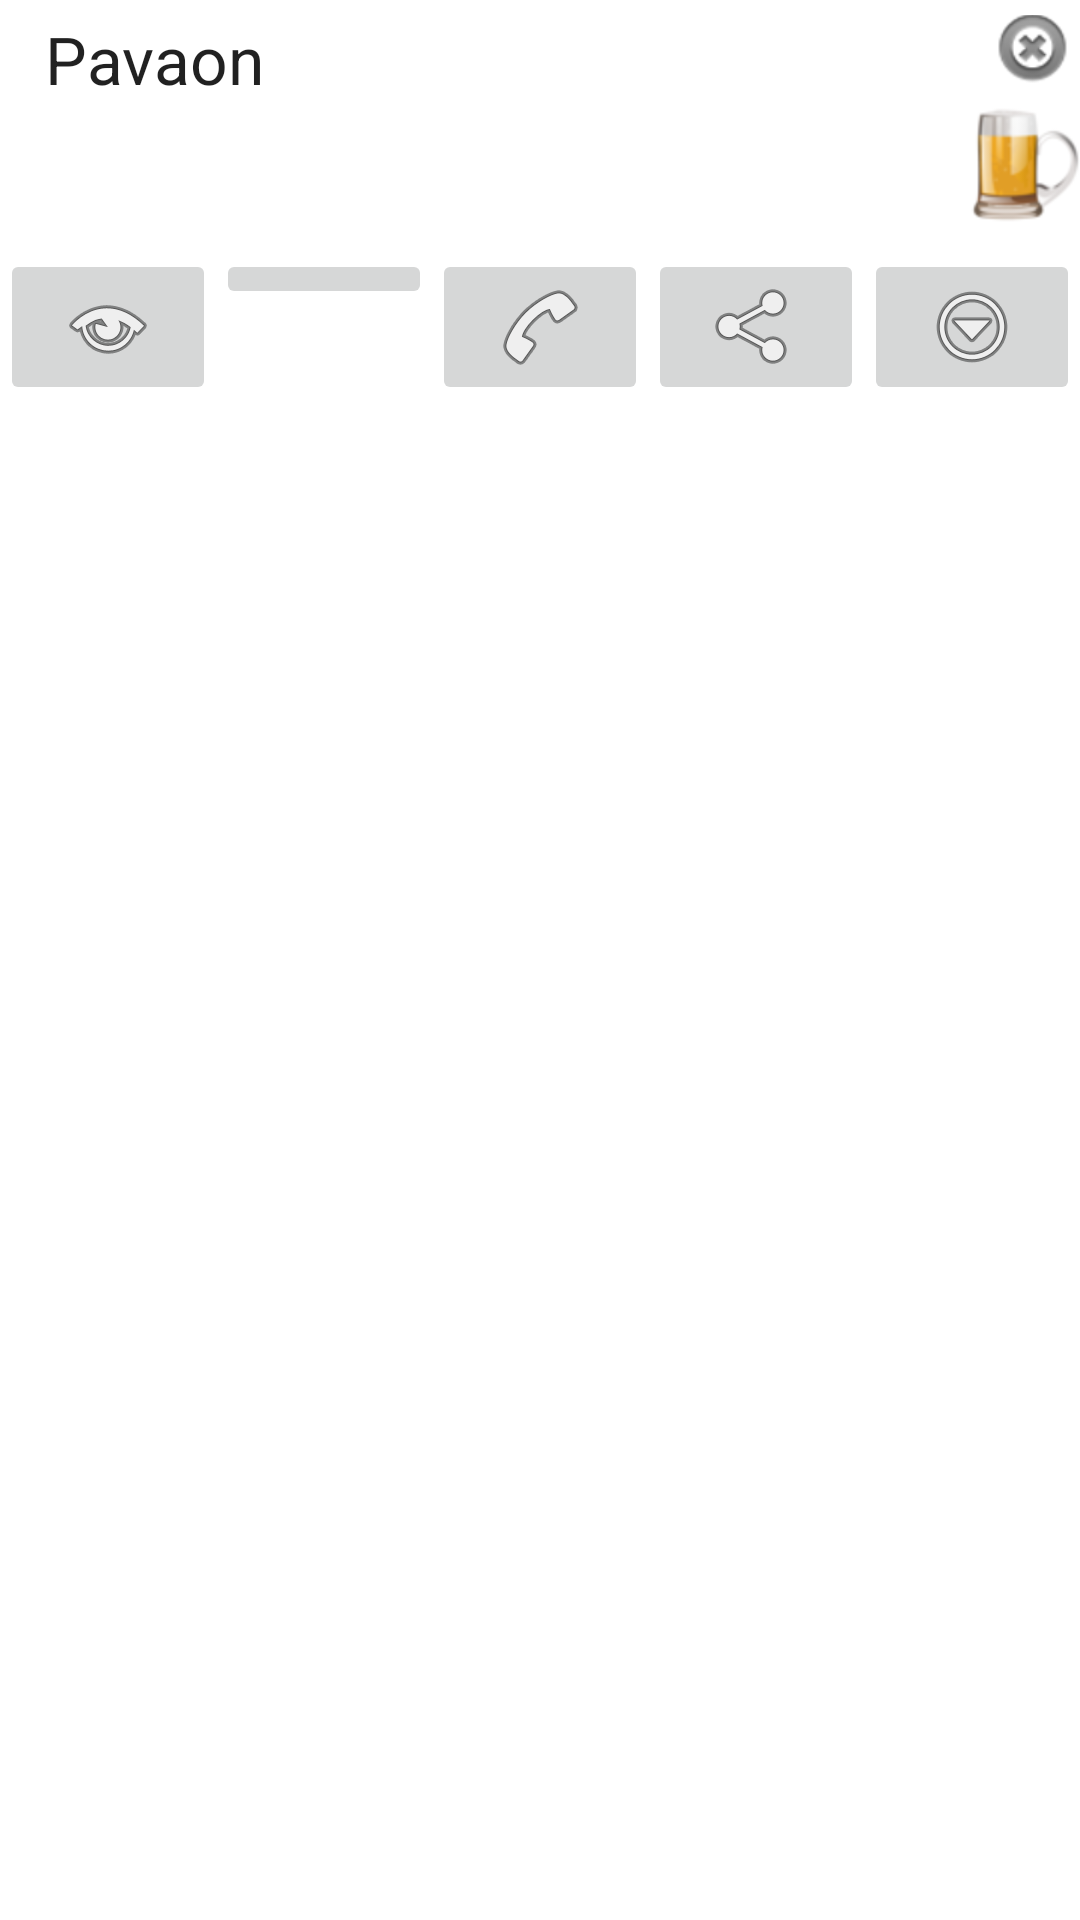

Named icons in this screenshot (1080×1920) and their bounding boxes, (x1, y1, x2, y2):
beer: (973, 111, 1078, 220)
call: (444, 267, 636, 387)
more: (876, 267, 1068, 387)
share: (660, 267, 852, 387)
view: (12, 267, 204, 387)
